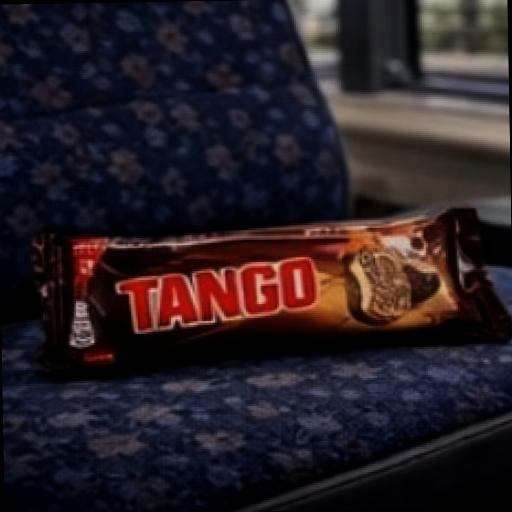tango: (14, 161, 512, 400)
